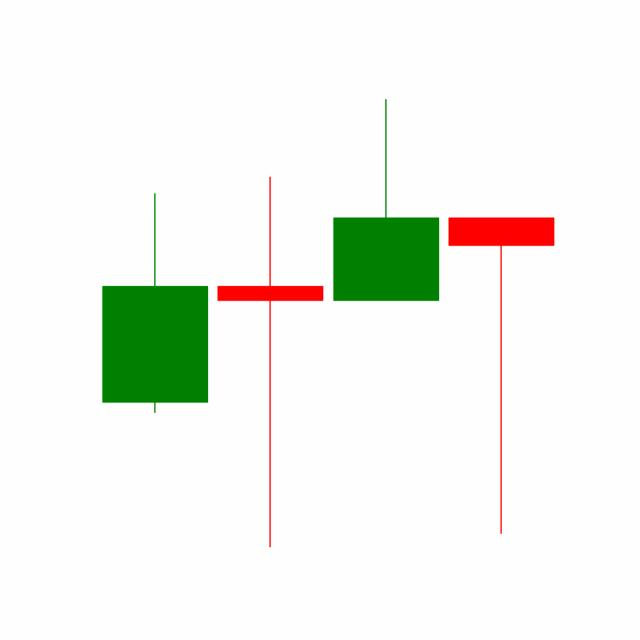Hammer: (443, 213, 559, 536)
